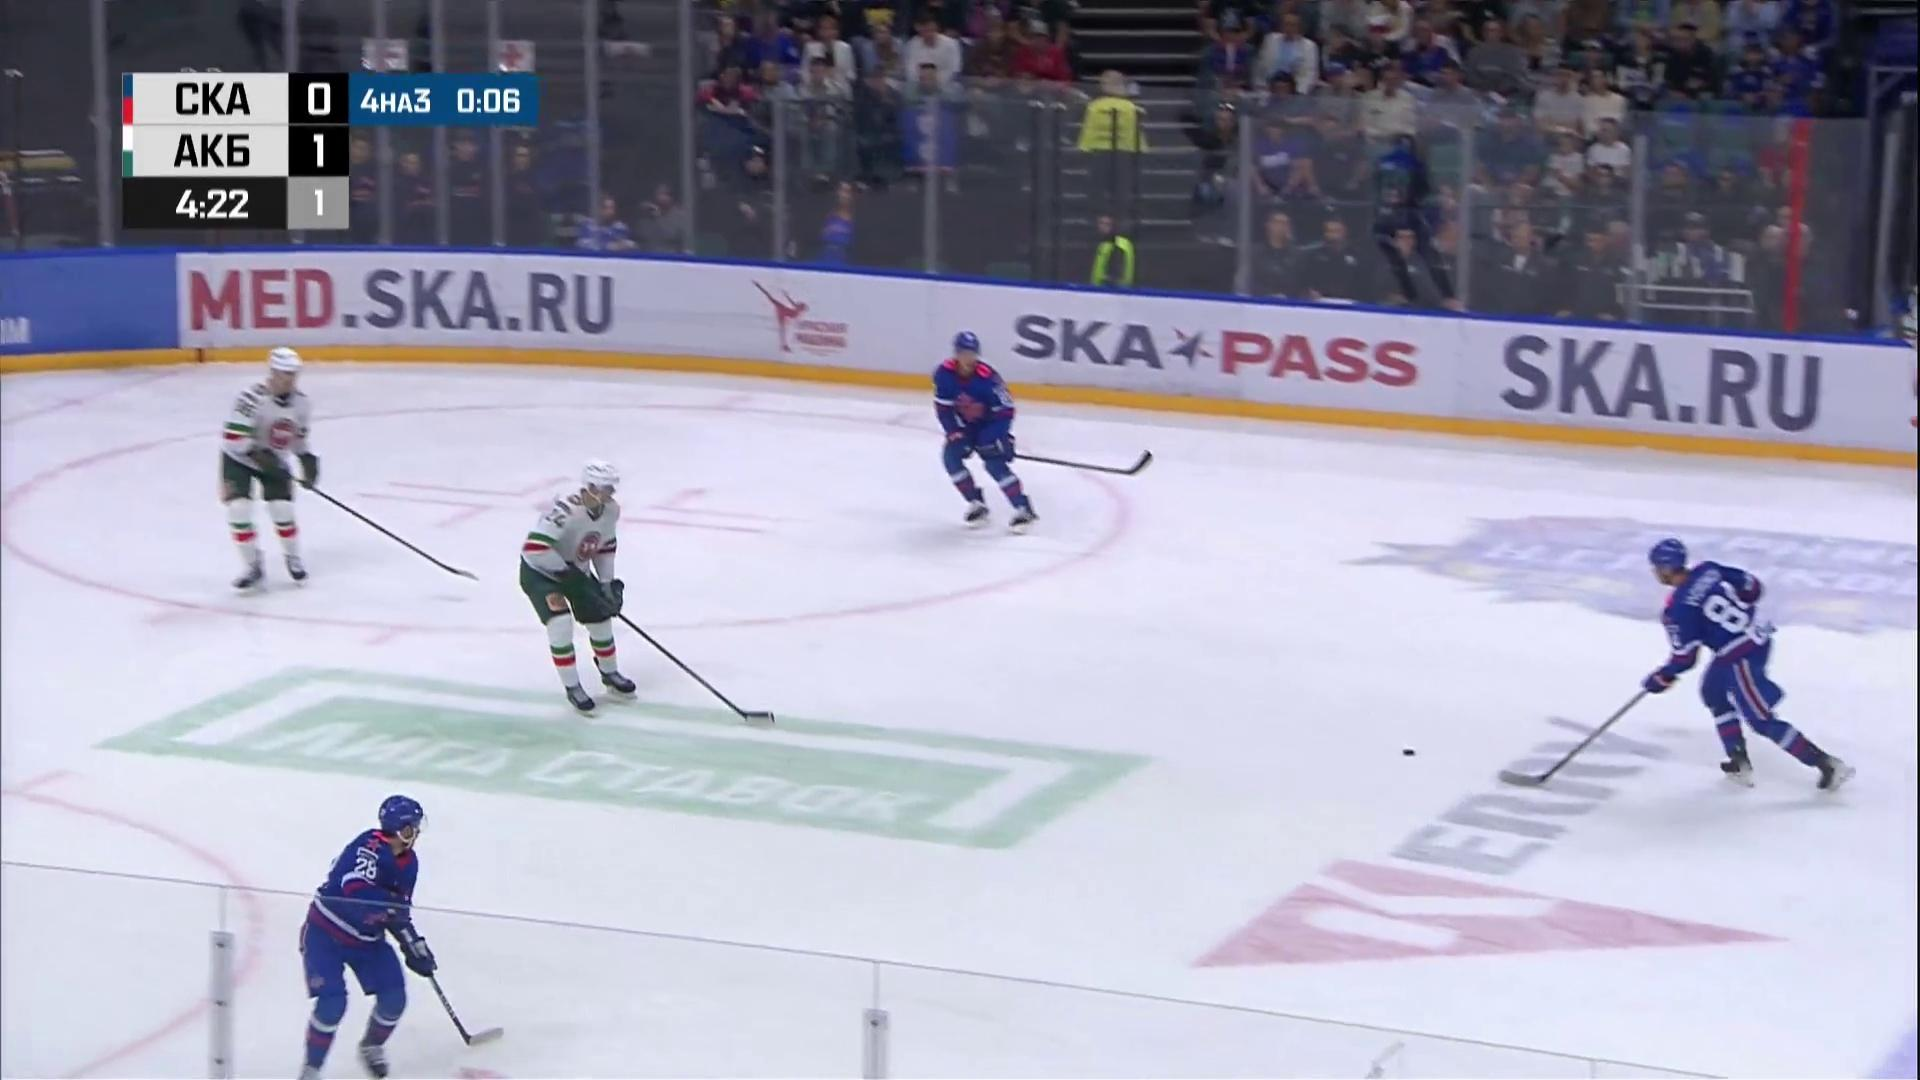ball: (1402, 748, 1416, 754)
